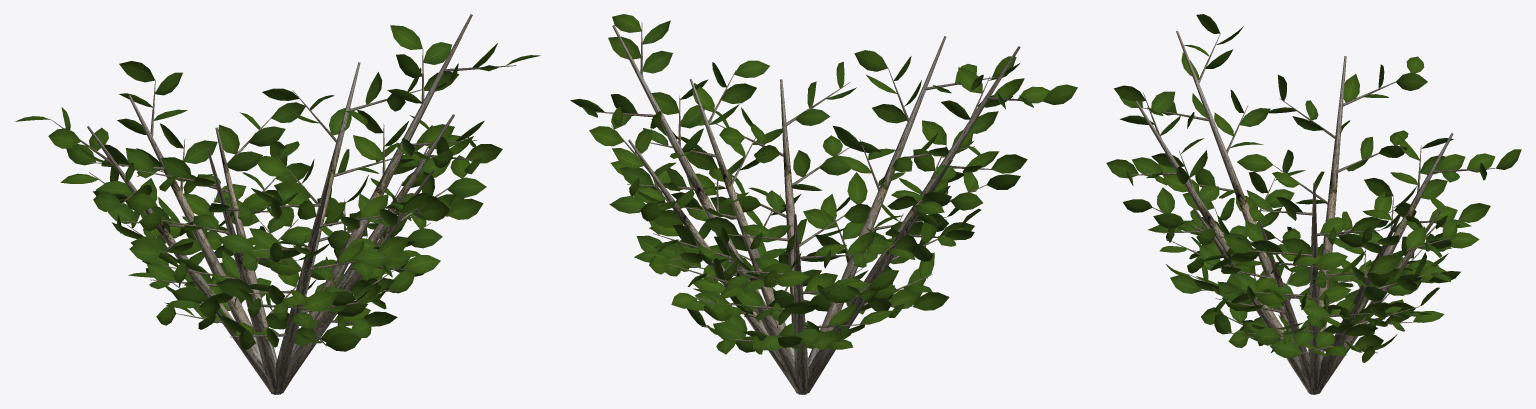
The model's file is woodland_shrub_lod1.gltf.
3 views of the same model, side by side, from view 1: azimuth 30°, elevation 25°; view 2: azimuth 150°, elevation 25°; view 3: azimuth 270°, elevation 25° (orthographic). The views are drawn at different scales.
Parts seen in each view (by area): view 1: woodland_shrub_lod1; view 2: woodland_shrub_lod1; view 3: woodland_shrub_lod1.
Boxes of the visible parts, box(x1,y1,x2,y2) form: woodland_shrub_lod1: box(14, 14, 540, 394); woodland_shrub_lod1: box(570, 14, 1077, 394); woodland_shrub_lod1: box(1106, 14, 1521, 394).
Bounding box in the file's own units: 1.64 × 1.17 × 1.48.
3 materials, 3 textured.
